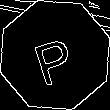P_N: (30, 25, 80, 85)
